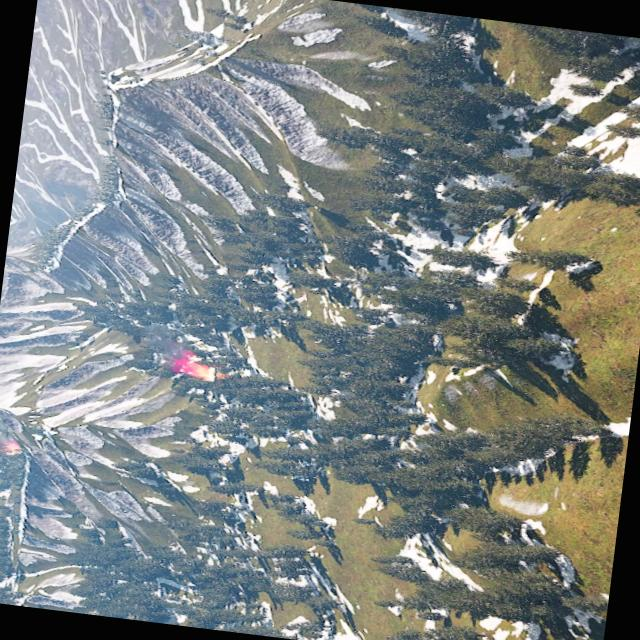fire: (176, 351, 217, 379), (3, 440, 22, 454)
smoke: (138, 321, 187, 374)
